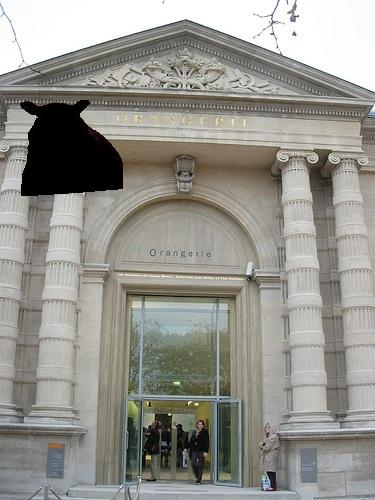tampered: (21, 101, 123, 196)
